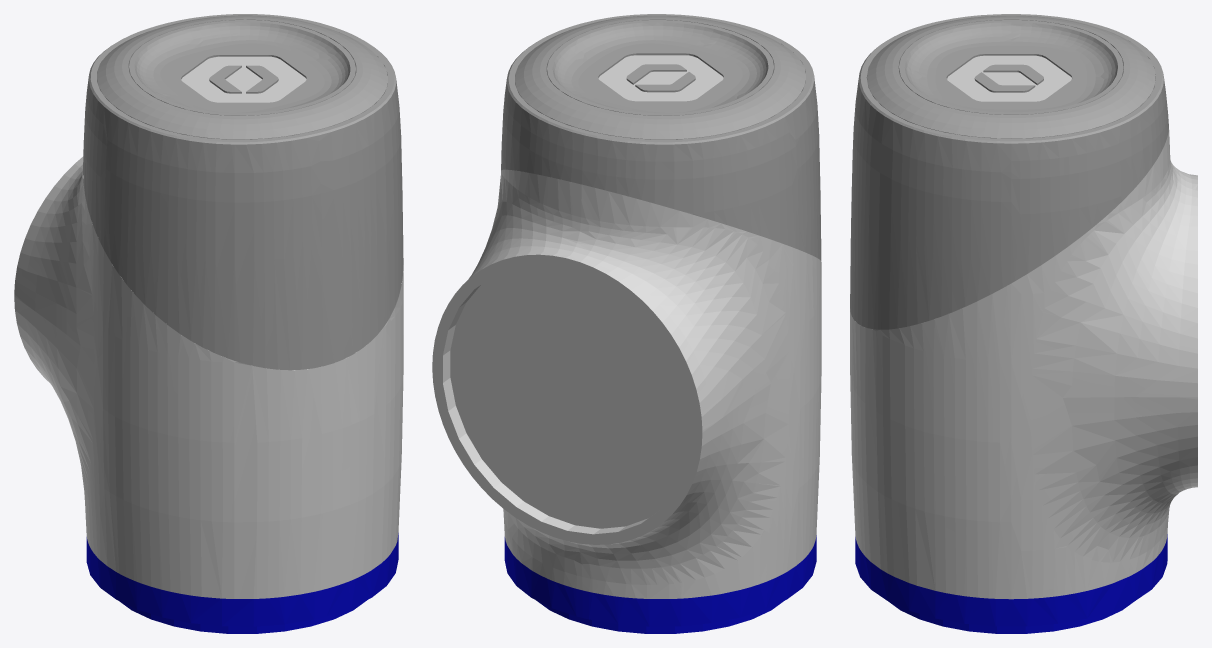
3 views of the same model, side by side, from view 1: azimuth 30°, elevation 25°; view 2: azimuth 150°, elevation 25°; view 3: azimuth 270°, elevation 25° (orthographic).
Parts seen in each view (by area): view 1: Link4; view 2: Link4; view 3: Link4.
Boxes of the visible parts, bbox=[...] form: Link4: bbox=[14, 14, 403, 633]; Link4: bbox=[432, 14, 821, 633]; Link4: bbox=[850, 14, 1197, 633].
Size of the model in its own units: 0.0848 by 0.1475 by 0.0914.
